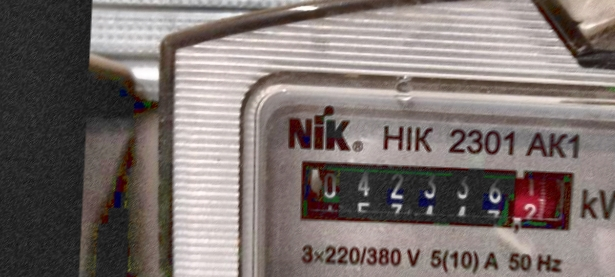0: (319, 171, 337, 200)
1: (523, 175, 536, 197)
2: (387, 170, 405, 200), (520, 201, 536, 219)
3: (451, 170, 469, 201), (419, 171, 436, 200)
4: (353, 168, 372, 198)
6: (485, 174, 504, 205)
screen: (286, 147, 585, 242)
